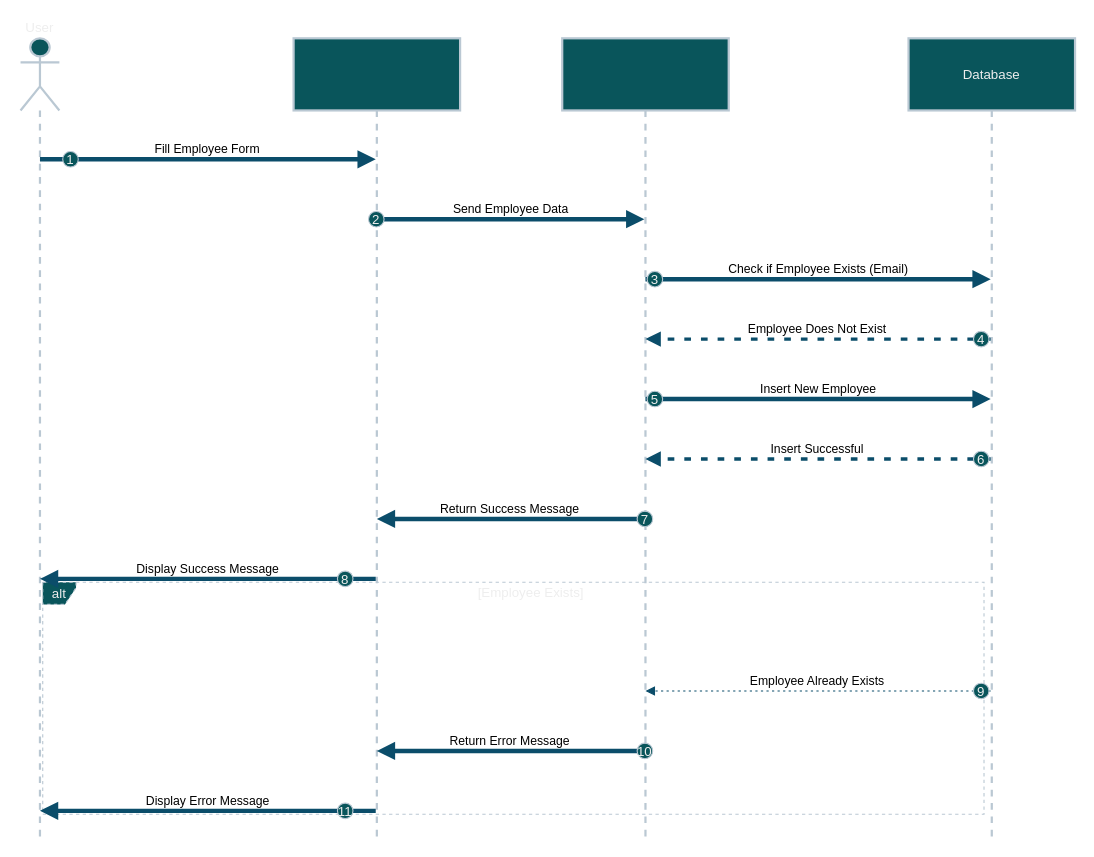
Image size: 1094x857. Some labels were removed from this diagram. Each missing label, with the box of its shape:
Backend (API): (561, 37, 729, 838)
Frontend (UI): (292, 37, 461, 838)
